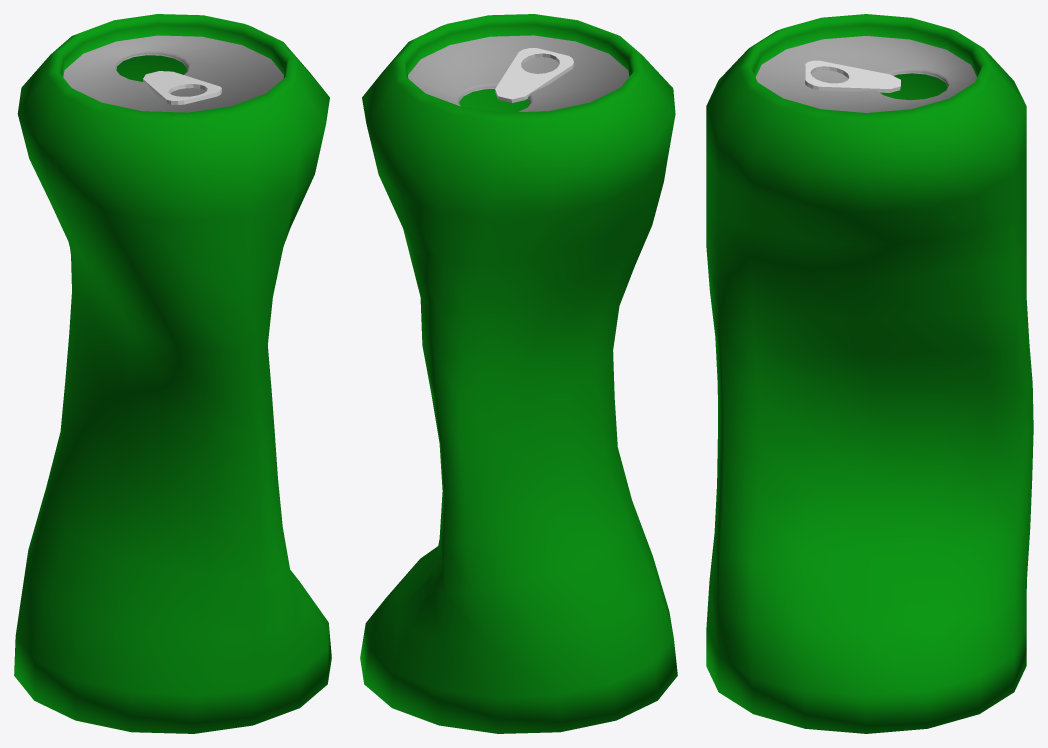
The model's file is large_can.fbx.
3 renders of one model, left to right at view 1: azimuth 30°, elevation 25°; view 2: azimuth 150°, elevation 25°; view 3: azimuth 270°, elevation 25°, orthographic.
Visible parts, largest first — view 1: Cylinder.006, Plane; view 2: Cylinder.006, Plane; view 3: Cylinder.006, Plane.
Boxes of the visible parts, left/top/right/bottom form: Cylinder.006: left=14, top=14, right=331, bottom=733; Plane: left=143, top=71, right=221, bottom=104; Cylinder.006: left=360, top=14, right=677, bottom=733; Plane: left=495, top=48, right=574, bottom=102; Cylinder.006: left=706, top=14, right=1033, bottom=733; Plane: left=805, top=60, right=900, bottom=92.
Size of the model in its own units: 63.36 by 132 by 64.77.
